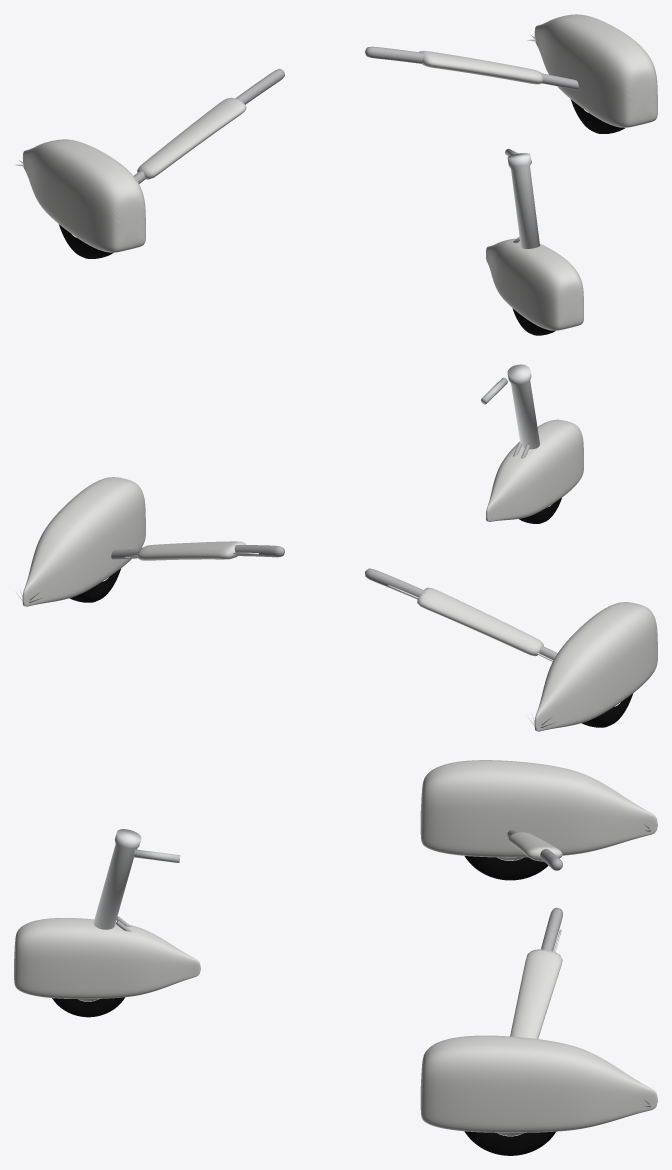
The model's file is GEAR.glb.
The picture shows the model from 3 angles, top to bottom: view 1: azimuth 30°, elevation 25°; view 2: azimuth 150°, elevation 25°; view 3: azimuth 270°, elevation 25°; orthographic projection. The views are drawn at different scales.
Parts seen in each view (by area): view 1: GEAR.main_wheel_fairing_R, GEAR.main_wheel_fairing_L, GEAR.nose_wheel_fairing, GEAR.main_leg_fairing_R, GEAR.nose_strut, GEAR.main_leg_fairing_L, GEAR.main_leg_L, GEAR.main_leg_R, GEAR.main_wheel_L.tyre, GEAR.main_wheel_R.tyre; view 2: GEAR.main_wheel_fairing_R, GEAR.main_wheel_fairing_L, GEAR.nose_wheel_fairing, GEAR.main_leg_fairing_R, GEAR.nose_strut, GEAR.main_leg_fairing_L, GEAR.main_leg_L, GEAR.main_leg_R, GEAR.main_wheel_R.tyre, GEAR.main_wheel_L.tyre; view 3: GEAR.main_wheel_fairing_L, GEAR.main_wheel_fairing_R, GEAR.nose_wheel_fairing, GEAR.main_leg_fairing_L, GEAR.nose_strut, GEAR.main_wheel_L.tyre, GEAR.main_wheel_R.tyre, GEAR.nose_wheel.tyre, GEAR.main_leg_fairing_R.
Part boxes in pixels (box(x1,y1,x2,y2)): GEAR.main_wheel_fairing_R: box(15, 139, 145, 252); GEAR.main_wheel_fairing_L: box(527, 14, 657, 127); GEAR.nose_wheel_fairing: box(486, 238, 583, 330); GEAR.main_leg_fairing_R: box(137, 97, 246, 179); GEAR.nose_strut: box(507, 153, 539, 248); GEAR.main_leg_fairing_L: box(419, 50, 543, 84); GEAR.main_leg_L: box(365, 46, 578, 89); GEAR.main_leg_R: box(134, 68, 284, 183); GEAR.main_wheel_L.tyre: box(570, 99, 624, 133); GEAR.main_wheel_R.tyre: box(59, 224, 113, 258); GEAR.main_wheel_fairing_R: box(526, 602, 657, 731); GEAR.main_wheel_fairing_L: box(15, 477, 145, 606); GEAR.nose_wheel_fairing: box(486, 419, 583, 521); GEAR.main_leg_fairing_R: box(417, 587, 543, 656); GEAR.nose_strut: box(507, 364, 539, 449); GEAR.main_leg_fairing_L: box(137, 541, 245, 560); GEAR.main_leg_L: box(111, 545, 284, 559); GEAR.main_leg_R: box(365, 568, 557, 659); GEAR.main_wheel_R.tyre: box(582, 693, 632, 727); GEAR.main_wheel_L.tyre: box(69, 568, 120, 602); GEAR.main_wheel_fairing_L: box(420, 1035, 657, 1132); GEAR.main_wheel_fairing_R: box(420, 760, 657, 857); GEAR.nose_wheel_fairing: box(14, 918, 200, 998); GEAR.main_leg_fairing_L: box(510, 949, 562, 1038); GEAR.nose_strut: box(93, 829, 141, 929); GEAR.main_wheel_L.tyre: box(464, 1131, 555, 1155); GEAR.main_wheel_R.tyre: box(464, 856, 548, 880); GEAR.nose_wheel.tyre: box(52, 997, 124, 1017); GEAR.main_leg_fairing_R: box(508, 832, 562, 861).
Size of the model in its own units: 2.8 by 0.7874 by 2.52.
Materials: 6 (1 with a texture image).
